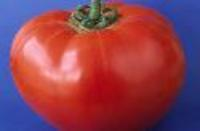tomato: (10, 1, 186, 130)
